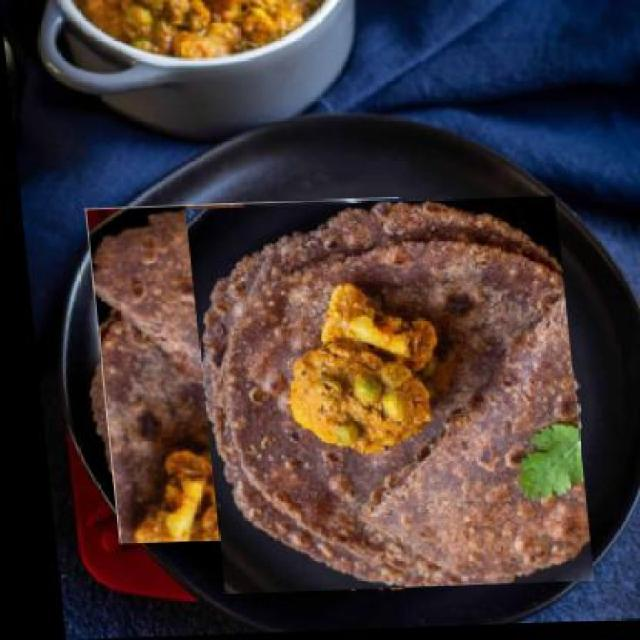chapati: (179, 198, 583, 597), (75, 205, 428, 541)
